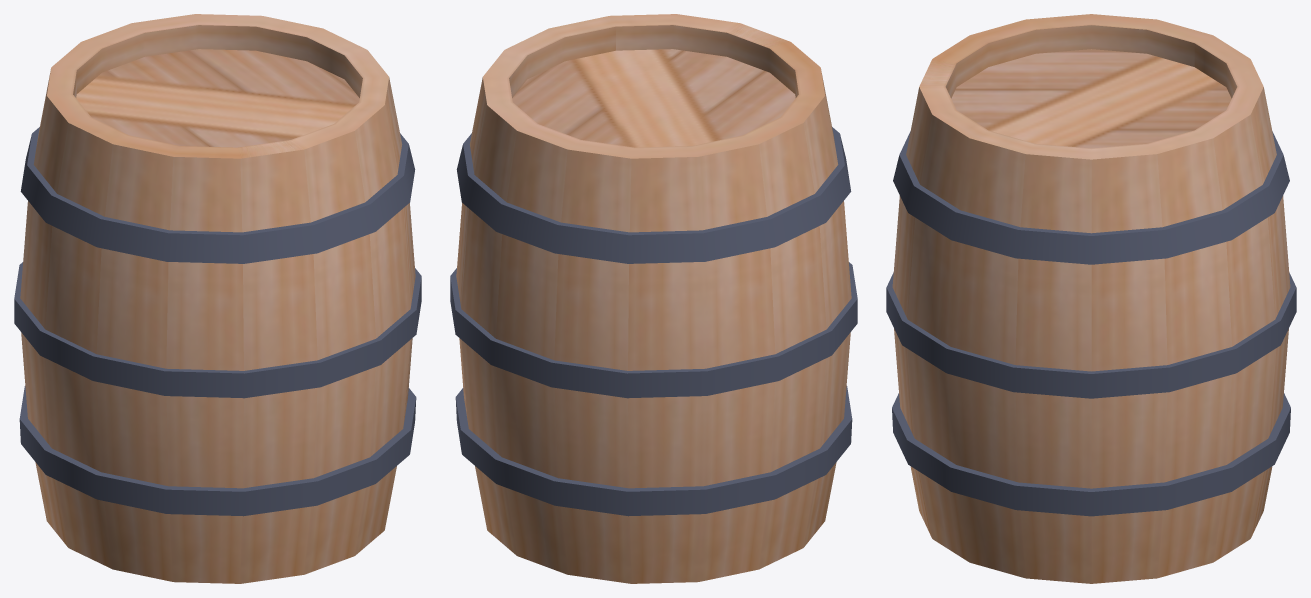
File: barrel.fbx
The picture shows the model from 3 angles, left to right: view 1: azimuth 30°, elevation 25°; view 2: azimuth 150°, elevation 25°; view 3: azimuth 270°, elevation 25°; orthographic projection.
Visible parts, largest first — view 1: Circle; view 2: Circle; view 3: Circle.
Boxes of the visible parts, box(x1,y1,x2,y2) form: Circle: box(14, 14, 421, 583); Circle: box(450, 14, 857, 583); Circle: box(886, 14, 1296, 583).
Bounding box in the file's own units: 2.38 × 2.72 × 2.38.
